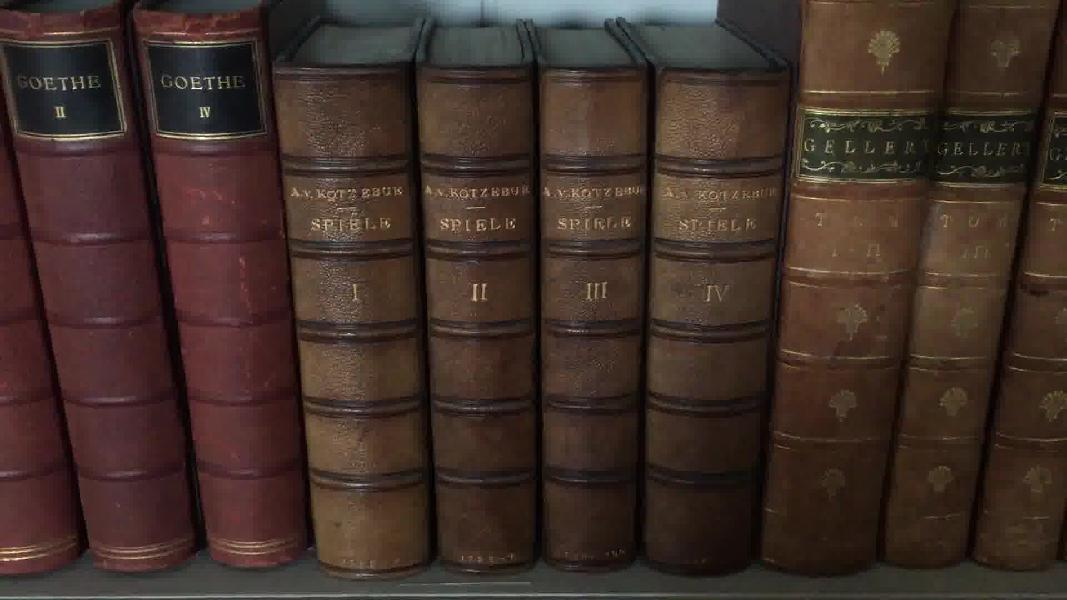Aa6-14_17: (262, 57, 786, 592)
